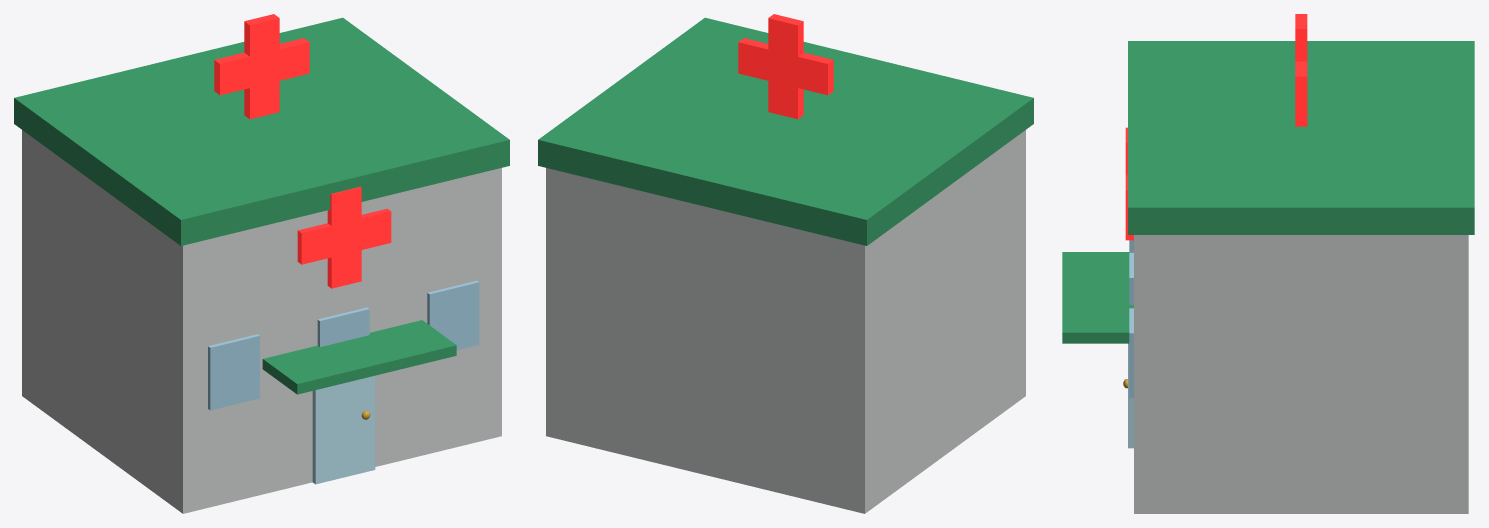
Rendered from biz_clinic.glb.
3 renders of one model, left to right at view 1: azimuth 30°, elevation 25°; view 2: azimuth 150°, elevation 25°; view 3: azimuth 270°, elevation 25°, orthographic. The views are drawn at different scales.
Size of the model in its own units: 3.3 by 3.8 by 3.45.
